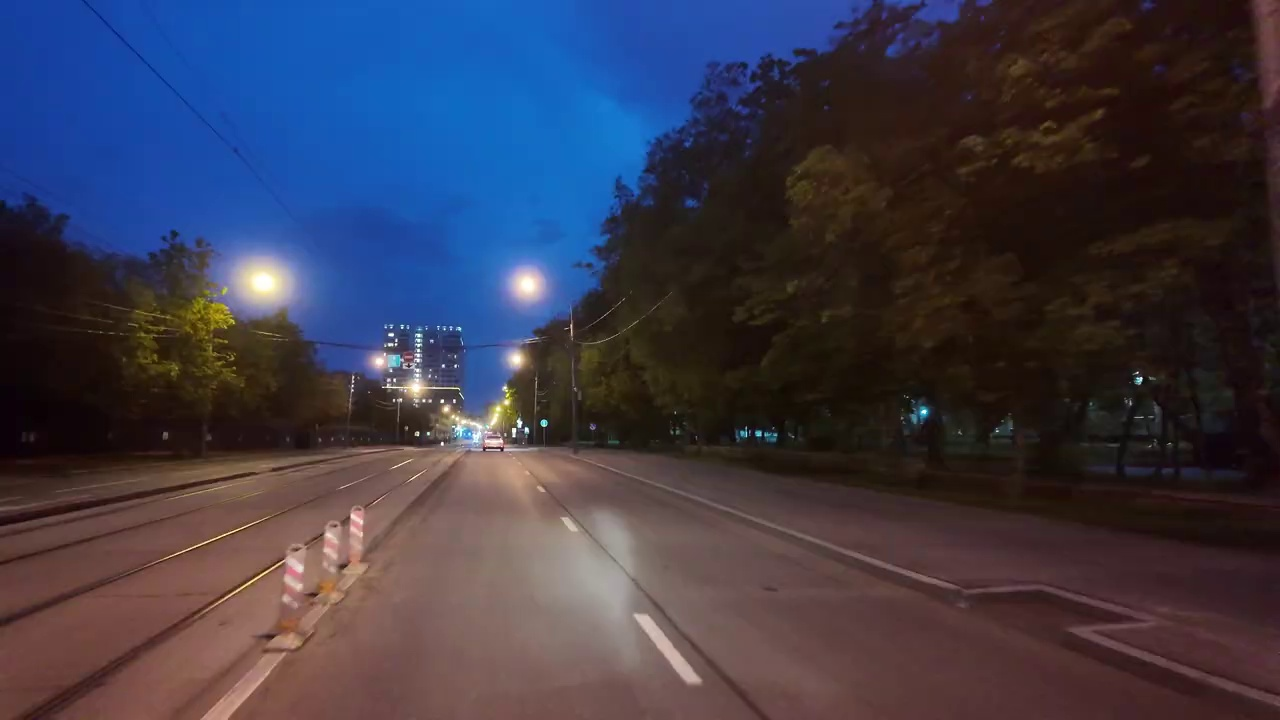acesa: (241, 263, 285, 304), (511, 268, 543, 301), (509, 348, 530, 373)
